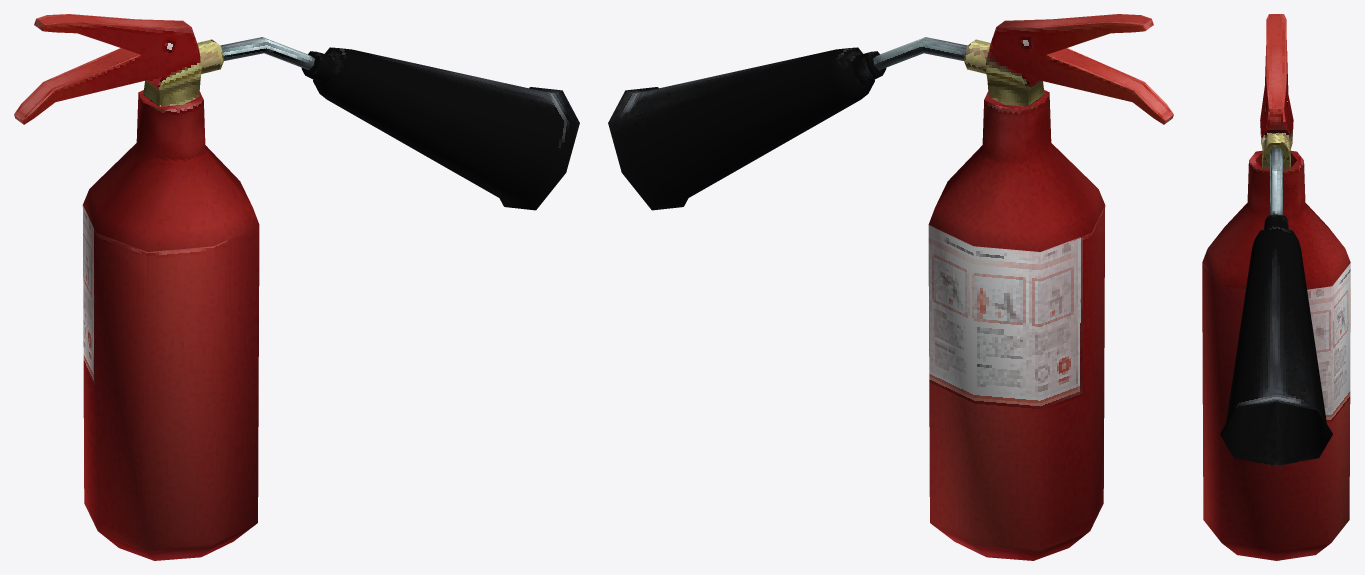
File: fire_extinguisher.glb
3 views of the same model, side by side, from view 1: azimuth 30°, elevation 25°; view 2: azimuth 150°, elevation 25°; view 3: azimuth 270°, elevation 25° (orthographic). The views are drawn at different scales.
Size of the model in its own units: 6.47 by 6.22 by 1.78.
1 material, 1 textured.
